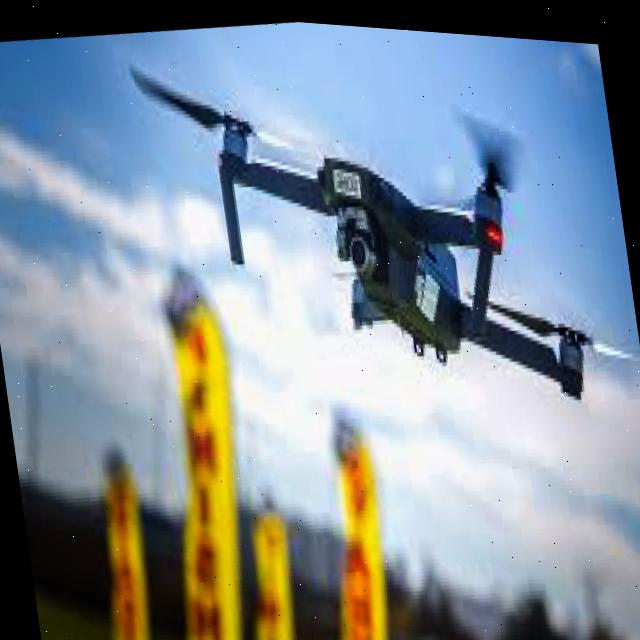drone: (130, 8, 640, 472)
